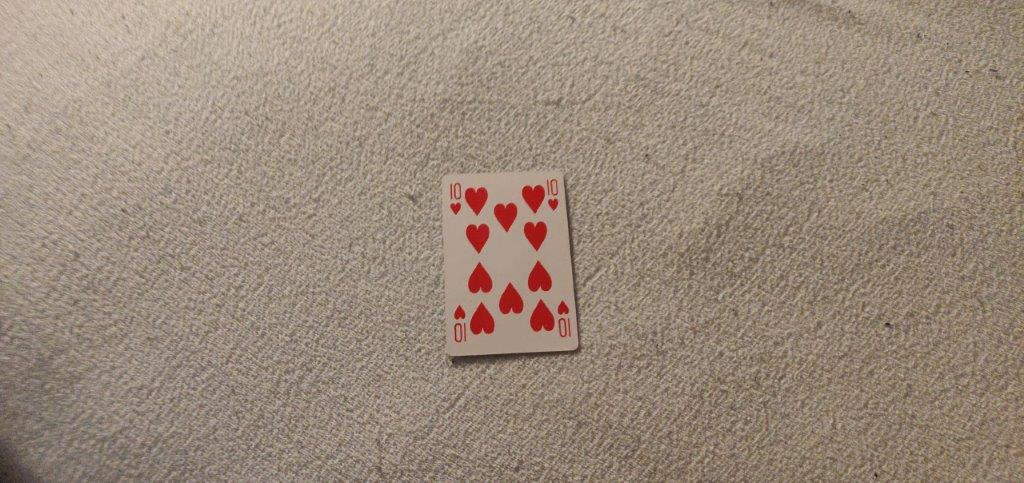10H: (445, 179, 465, 217), (544, 176, 561, 213)
